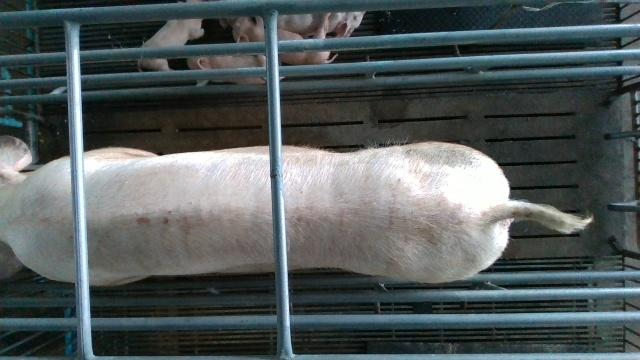piglet: (232, 15, 336, 63), (182, 50, 285, 86), (140, 16, 206, 72), (244, 8, 364, 36)
sow-stand-feed: (0, 142, 587, 286)
